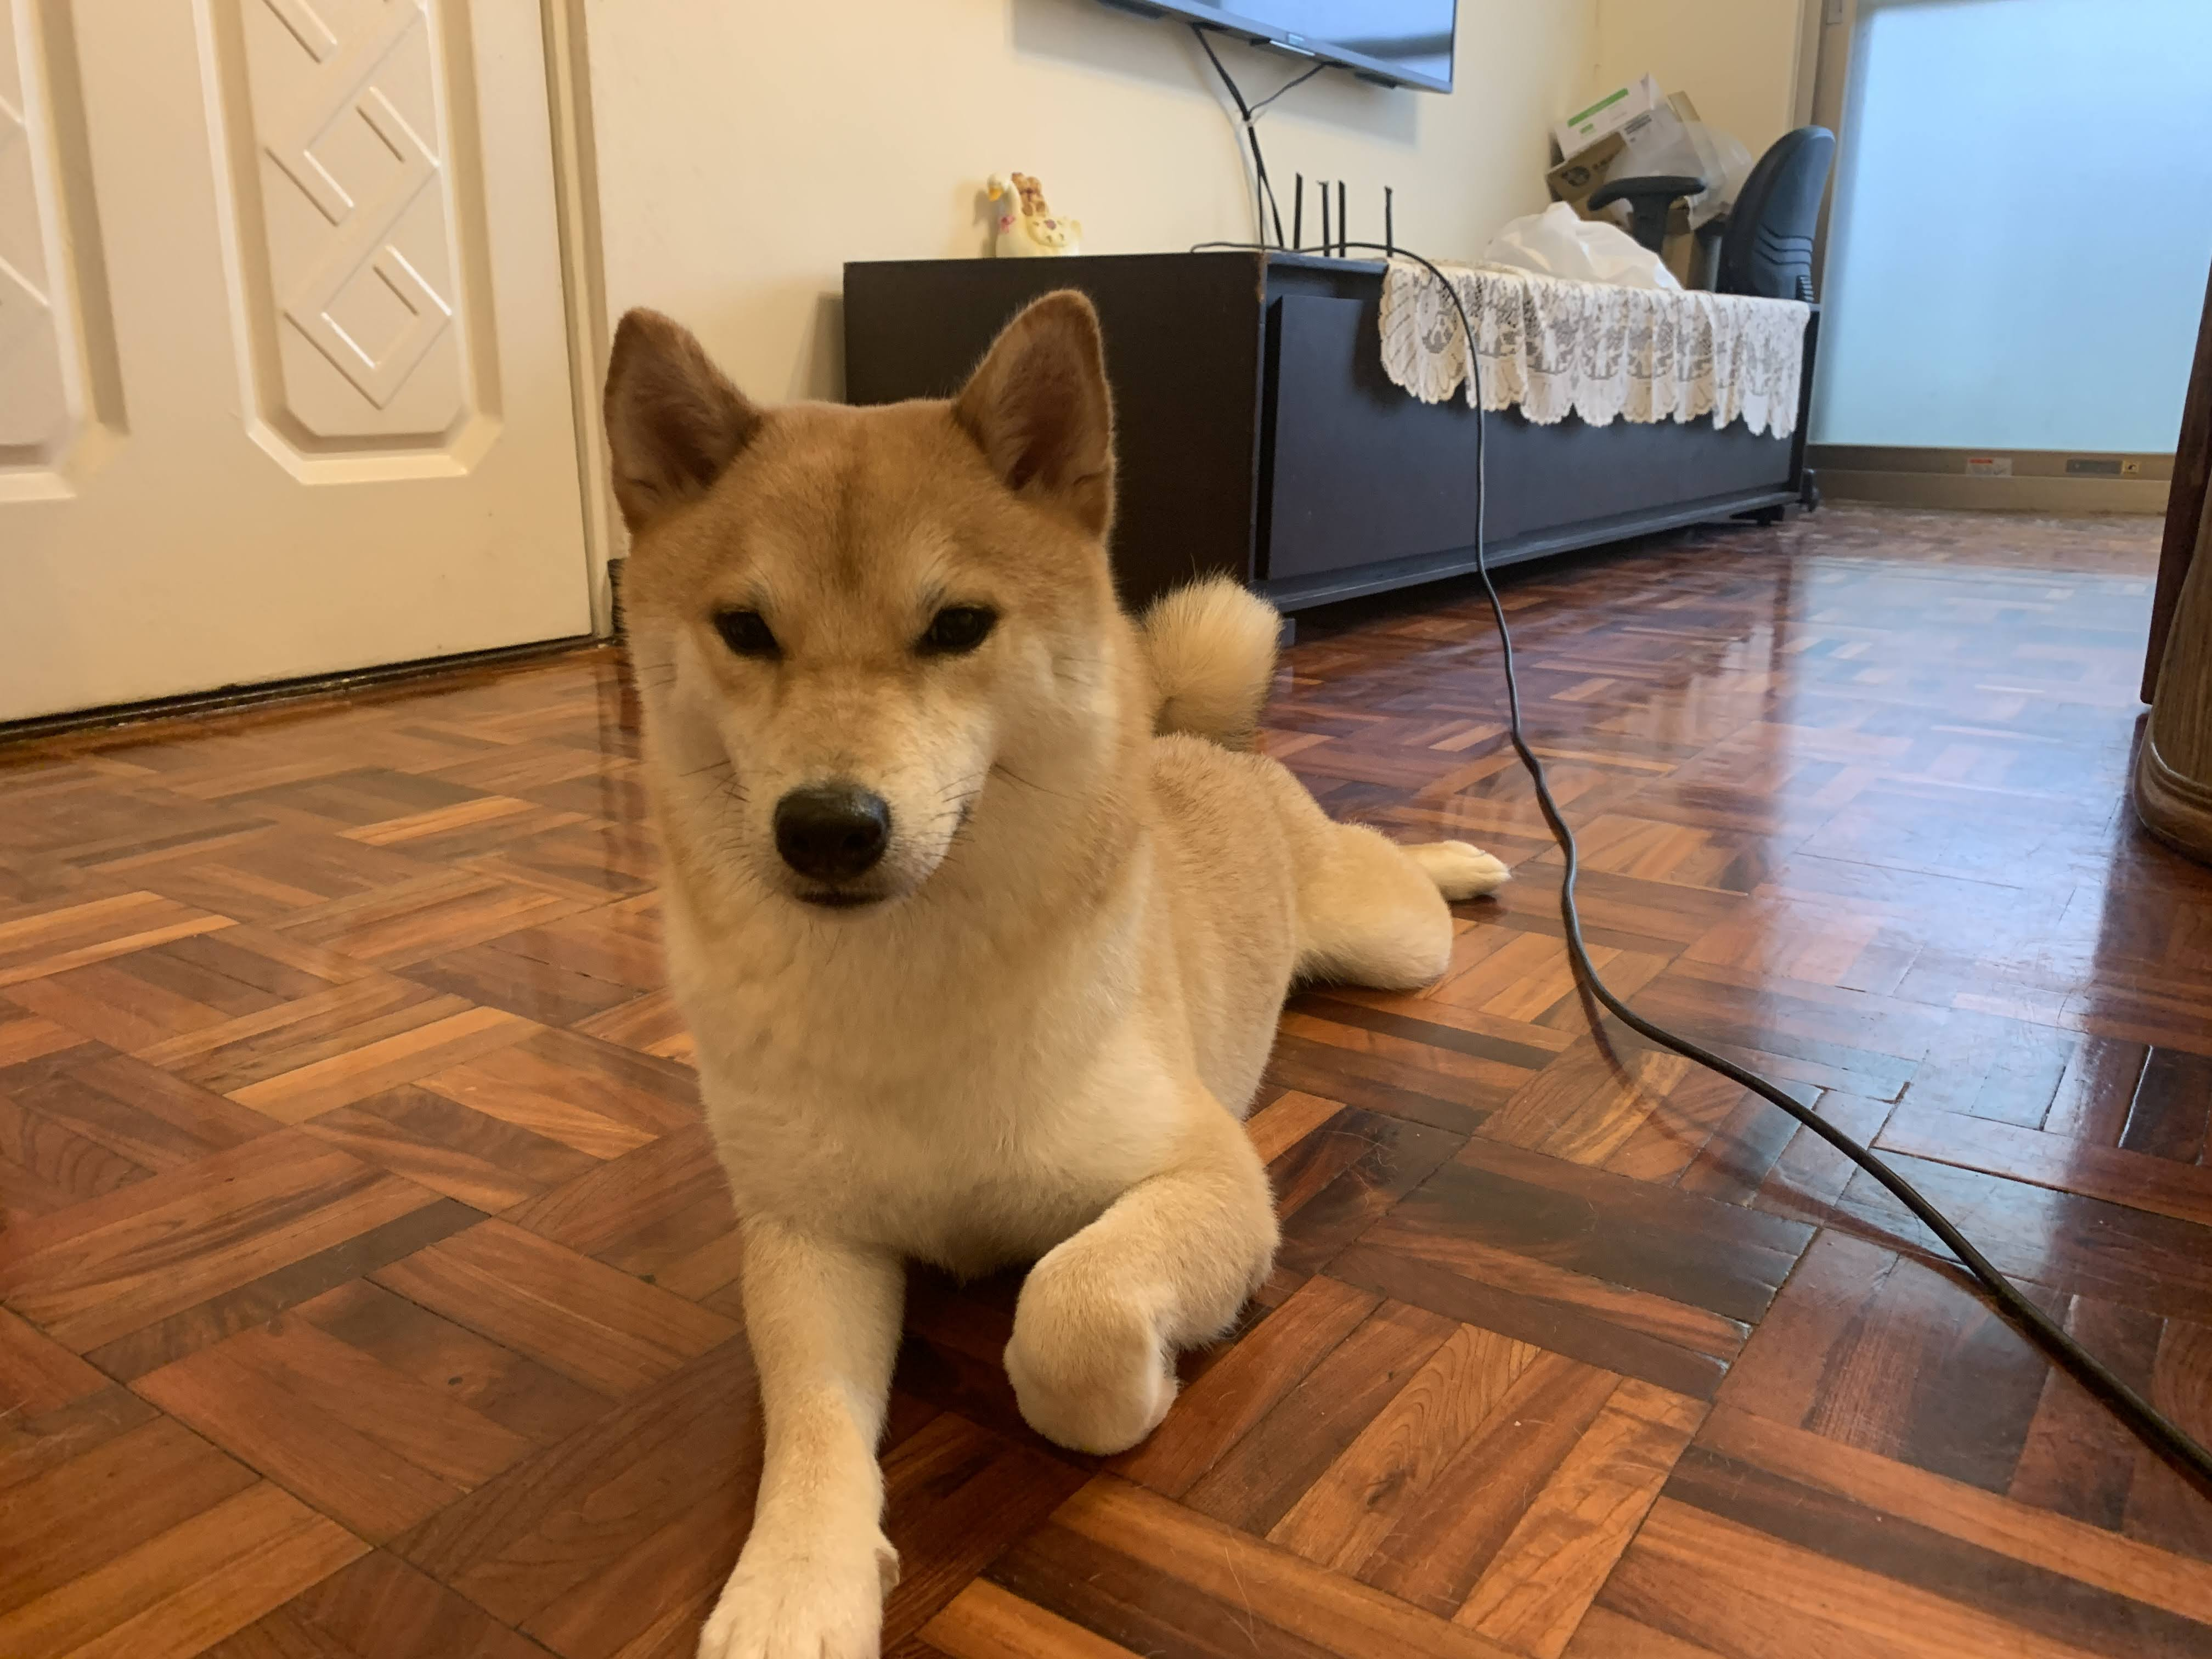Get down: (512, 251, 1413, 1659)
